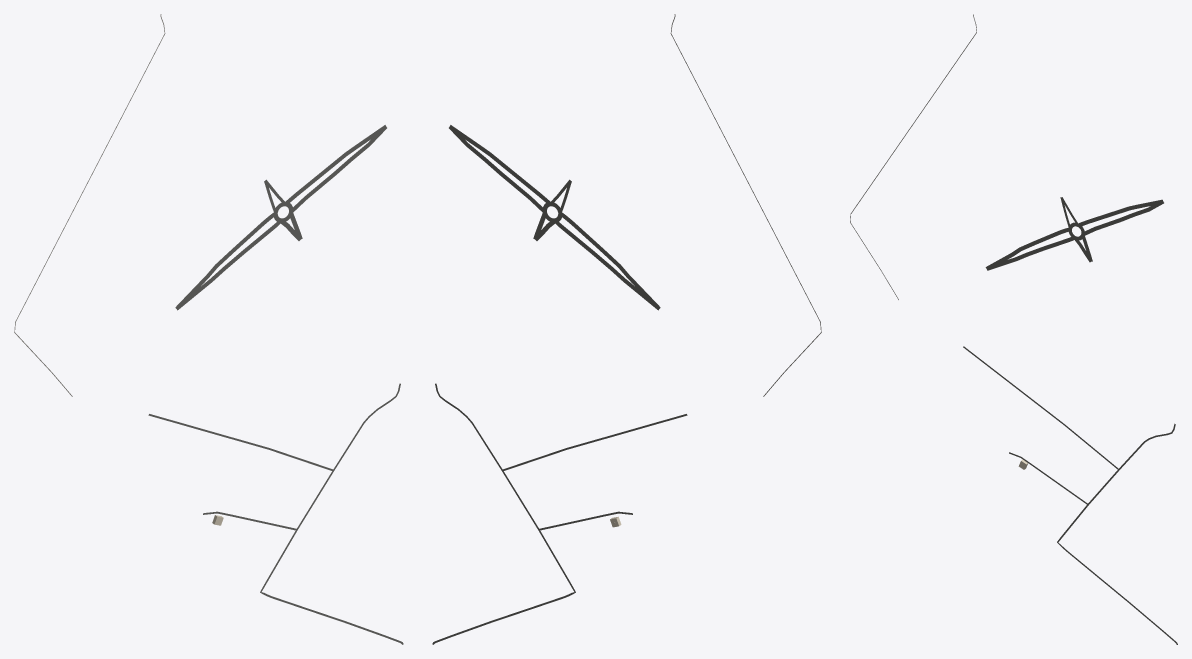
Rendered from madaba_3581_3169.glb.
The picture shows the model from 3 angles, left to right: view 1: azimuth 30°, elevation 25°; view 2: azimuth 150°, elevation 25°; view 3: azimuth 330°, elevation 25°; orthographic projection. The views are drawn at different scales.
Visible parts, largest first — view 1: Road .001, Road .008, Road .004, Road .006; view 2: Road .001, Road .004, Road .008; view 3: Road .001.
Boxes of the visible parts, x1=… form: Road .001: x1=260, y1=383, x2=403, y2=644; Road .008: x1=175, y1=212, x2=275, y2=308; Road .004: x1=175, y1=220, x2=280, y2=310; Road .006: x1=290, y1=126, x2=386, y2=212; Road .001: x1=432, y1=383, x2=575, y2=644; Road .004: x1=555, y1=222, x2=659, y2=310; Road .008: x1=562, y1=213, x2=660, y2=307; Road .001: x1=1057, y1=423, x2=1177, y2=644.
Size of the model in its own units: 731 by 1238 by 8.7.
